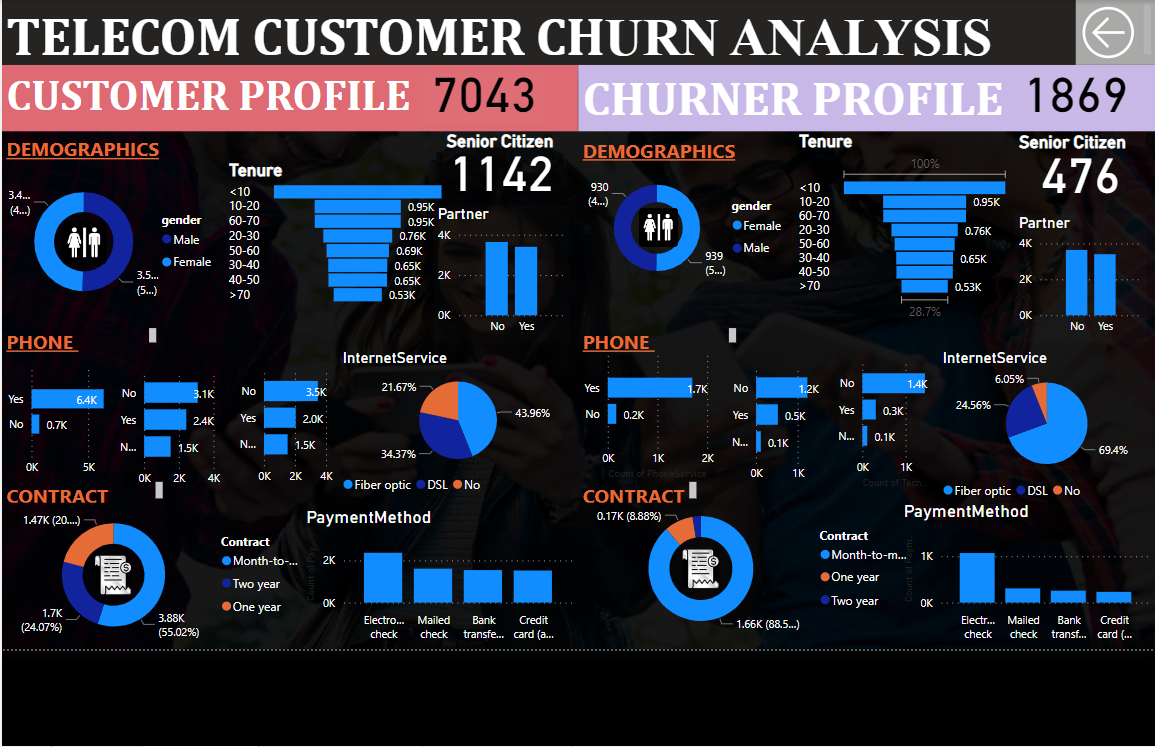

Layout of this report page (visuals, bound fields, positions):
{"tool":"powerbi","page":{"name":"Summary","canvas":[1280,720],"ordinal":1},"visuals":[{"type":"textbox","box":[0,0,1280.6,72.1],"z":0},{"type":"textbox","box":[0,72.1,639.6,73.5],"z":1000},{"type":"textbox","box":[639.6,72.1,641,73.5],"z":2000},{"type":"donutChart","title":"Demographics","fields":{"Category":["Telco-Customer-Churn.gender"],"Y":["CountNonNull(Telco-Customer-Churn.gender)"]},"box":[0,177.6,247,181.7],"z":3000},{"type":"donutChart","title":"Demographics","fields":{"Category":["Telco-Customer-Churn.gender"],"Y":["CountNonNull(Telco-Customer-Churn.gender)"]},"box":[639.6,147.1,240,212.3],"z":4000},{"type":"funnel","title":"Tenure","fields":{"Category":["Telco-Customer-Churn.Tenure-Range"],"Y":["CountNonNull(Telco-Customer-Churn.Tenure-Range)"]},"box":[247,177.6,251.1,163.7],"z":5000},{"type":"funnel","title":"Tenure","fields":{"Category":["Telco-Customer-Churn.Tenure-Range"],"Y":["CountNonNull(Telco-Customer-Churn.Tenure-Range)"]},"box":[879.6,145.7,244.2,213.7],"z":6000},{"type":"card","title":"Senior Citizen","fields":{"Values":["CountNonNull(Telco-Customer-Churn.SeniorCitizen - Fixed)"]},"box":[488.4,145.7,131.8,81.9],"z":7000},{"type":"card","title":"Senior Citizen","fields":{"Values":["CountNonNull(Telco-Customer-Churn.SeniorCitizen - Fixed)"]},"box":[1123.8,147.1,147.1,81.9],"z":8000},{"type":"columnChart","title":"Partner","fields":{"Category":["Telco-Customer-Churn.Partner"],"Y":["CountNonNull(Telco-Customer-Churn.Partner)"]},"box":[478.7,227.5,151.2,152.6],"z":9000},{"type":"columnChart","title":"Partner","fields":{"Category":["Telco-Customer-Churn.Partner"],"Y":["CountNonNull(Telco-Customer-Churn.Partner)"]},"box":[1123.8,237.2,147.1,142.9],"z":10000},{"type":"barChart","title":" PhoneService","fields":{"Category":["Telco-Customer-Churn.PhoneService"],"Y":["CountNonNull(Telco-Customer-Churn.PhoneService)"]},"box":[0,394,145.7,142.9],"z":11000},{"type":"barChart","title":" PhoneService","fields":{"Category":["Telco-Customer-Churn.PhoneService"],"Y":["CountNonNull(Telco-Customer-Churn.PhoneService)"]},"box":[639.6,380.1,155.4,156.8],"z":12000},{"type":"barChart","title":"OnlineBackup","fields":{"Category":["Telco-Customer-Churn.OnlineBackup"],"Y":["CountNonNull(Telco-Customer-Churn.OnlineBackup)"]},"box":[111,399.6,136,149.8],"z":13000},{"type":"barChart","title":"OnlineBackup","fields":{"Category":["Telco-Customer-Churn.OnlineBackup"],"Y":["CountNonNull(Telco-Customer-Churn.OnlineBackup)"]},"box":[792.2,394,126.3,149.8],"z":14000},{"type":"barChart","title":"TechSupport","fields":{"Category":["Telco-Customer-Churn.TechSupport"],"Y":["CountNonNull(Telco-Customer-Churn.TechSupport)"]},"box":[247,398.2,124.9,148.5],"z":15000},{"type":"barChart","title":"TechSupport","fields":{"Category":["Telco-Customer-Churn.TechSupport"],"Y":["CountNonNull(Telco-Customer-Churn.TechSupport)"]},"box":[910.1,389.9,129,156.8],"z":16000},{"type":"pieChart","title":"InternetService","fields":{"Category":["Telco-Customer-Churn.InternetService"],"Y":["CountNonNull(Telco-Customer-Churn.InternetService)"]},"box":[373.2,387.1,266.4,169.3],"z":17000},{"type":"pieChart","title":"InternetService","fields":{"Category":["Telco-Customer-Churn.InternetService"],"Y":["CountNonNull(Telco-Customer-Churn.InternetService)"]},"box":[1039.2,387.1,241.4,176.2],"z":18000},{"type":"donutChart","title":" Contract","fields":{"Category":["Telco-Customer-Churn.Contract"],"Y":["CountNonNull(Telco-Customer-Churn.Contract)"]},"box":[0,556.3,351,163.7],"z":19000},{"type":"donutChart","title":" Contract","fields":{"Category":["Telco-Customer-Churn.Contract"],"Y":["CountNonNull(Telco-Customer-Churn.Contract)"]},"box":[639.6,549.4,385.7,163.7],"z":20000},{"type":"columnChart","title":"PaymentMethod","fields":{"Category":["Telco-Customer-Churn.PaymentMethod"],"Y":["CountNonNull(Telco-Customer-Churn.PaymentMethod)"]},"box":[333,563.3,306.6,156.8],"z":21000},{"type":"columnChart","title":"PaymentMethod","fields":{"Category":["Telco-Customer-Churn.PaymentMethod"],"Y":["CountNonNull(Telco-Customer-Churn.PaymentMethod)"]},"box":[996.1,556.3,284.4,163.7],"z":22000},{"type":"card","fields":{"Values":["Telco-Customer-Churn.Total_Churn"]},"box":[467.6,80.5,136,58.3],"z":23000},{"type":"card","fields":{"Values":["Telco-Customer-Churn.Churned_Count"]},"box":[1123.8,80.5,136,58.3],"z":24000},{"type":"textbox","box":[0,145.7,220.6,43],"z":25000},{"type":"textbox","box":[0,359.3,176.2,40.2],"z":26000},{"type":"textbox","box":[0,530,183.1,33.3],"z":27000},{"type":"textbox","box":[639.6,147.1,216.4,40.2],"z":28000},{"type":"textbox","box":[629.9,138.7,330.2,8.3],"z":29000},{"type":"textbox","box":[639.6,359.3,180.4,40.2],"z":30000},{"type":"textbox","box":[639.6,530,136,33.3],"z":31000},{"type":"actionButton","box":[1191.8,0,88.8,72.1],"z":32000},{"type":"image","box":[61,231.7,61,74.9],"z":33000},{"type":"image","box":[696.5,224.8,63.8,55.5],"z":34000},{"type":"image","box":[88.8,611.8,68,52.7],"z":35000},{"type":"image","box":[740.9,604.9,68,52.7],"z":36000}]}

Visuals, with their boxes on the page's 1280x720 design canvas (x1, y1, x2, y2). These are canvas units, not pixel positions in the 1155x747 screenshot, which may show the page scaled, cropped or inside an application window:
textbox: pyautogui.locateOnScreen(0, 0, 1281, 72)
textbox: pyautogui.locateOnScreen(0, 72, 640, 146)
textbox: pyautogui.locateOnScreen(640, 72, 1281, 146)
"Demographics" donutChart: pyautogui.locateOnScreen(0, 178, 247, 359)
"Demographics" donutChart: pyautogui.locateOnScreen(640, 147, 880, 359)
"Tenure" funnel: pyautogui.locateOnScreen(247, 178, 498, 341)
"Tenure" funnel: pyautogui.locateOnScreen(880, 146, 1124, 359)
"Senior Citizen" card: pyautogui.locateOnScreen(488, 146, 620, 228)
"Senior Citizen" card: pyautogui.locateOnScreen(1124, 147, 1271, 229)
"Partner" columnChart: pyautogui.locateOnScreen(479, 228, 630, 380)
"Partner" columnChart: pyautogui.locateOnScreen(1124, 237, 1271, 380)
" PhoneService" barChart: pyautogui.locateOnScreen(0, 394, 146, 537)
" PhoneService" barChart: pyautogui.locateOnScreen(640, 380, 795, 537)
"OnlineBackup" barChart: pyautogui.locateOnScreen(111, 400, 247, 549)
"OnlineBackup" barChart: pyautogui.locateOnScreen(792, 394, 918, 544)
"TechSupport" barChart: pyautogui.locateOnScreen(247, 398, 372, 547)
"TechSupport" barChart: pyautogui.locateOnScreen(910, 390, 1039, 547)
"InternetService" pieChart: pyautogui.locateOnScreen(373, 387, 640, 556)
"InternetService" pieChart: pyautogui.locateOnScreen(1039, 387, 1281, 563)
" Contract" donutChart: pyautogui.locateOnScreen(0, 556, 351, 720)
" Contract" donutChart: pyautogui.locateOnScreen(640, 549, 1025, 713)
"PaymentMethod" columnChart: pyautogui.locateOnScreen(333, 563, 640, 720)
"PaymentMethod" columnChart: pyautogui.locateOnScreen(996, 556, 1280, 720)
card - Telco-Customer-Churn.Total_Churn: pyautogui.locateOnScreen(468, 80, 604, 139)
card - Telco-Customer-Churn.Churned_Count: pyautogui.locateOnScreen(1124, 80, 1260, 139)
textbox: pyautogui.locateOnScreen(0, 146, 221, 189)
textbox: pyautogui.locateOnScreen(0, 359, 176, 400)
textbox: pyautogui.locateOnScreen(0, 530, 183, 563)
textbox: pyautogui.locateOnScreen(640, 147, 856, 187)
textbox: pyautogui.locateOnScreen(630, 139, 960, 147)
textbox: pyautogui.locateOnScreen(640, 359, 820, 400)
textbox: pyautogui.locateOnScreen(640, 530, 776, 563)
actionButton: pyautogui.locateOnScreen(1192, 0, 1281, 72)
image: pyautogui.locateOnScreen(61, 232, 122, 307)
image: pyautogui.locateOnScreen(696, 225, 760, 280)
image: pyautogui.locateOnScreen(89, 612, 157, 664)
image: pyautogui.locateOnScreen(741, 605, 809, 658)
